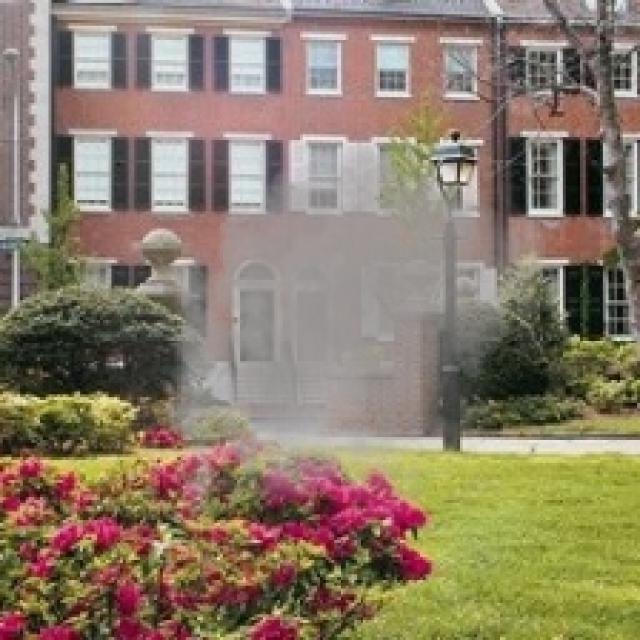Smoke: (143, 120, 560, 540)
